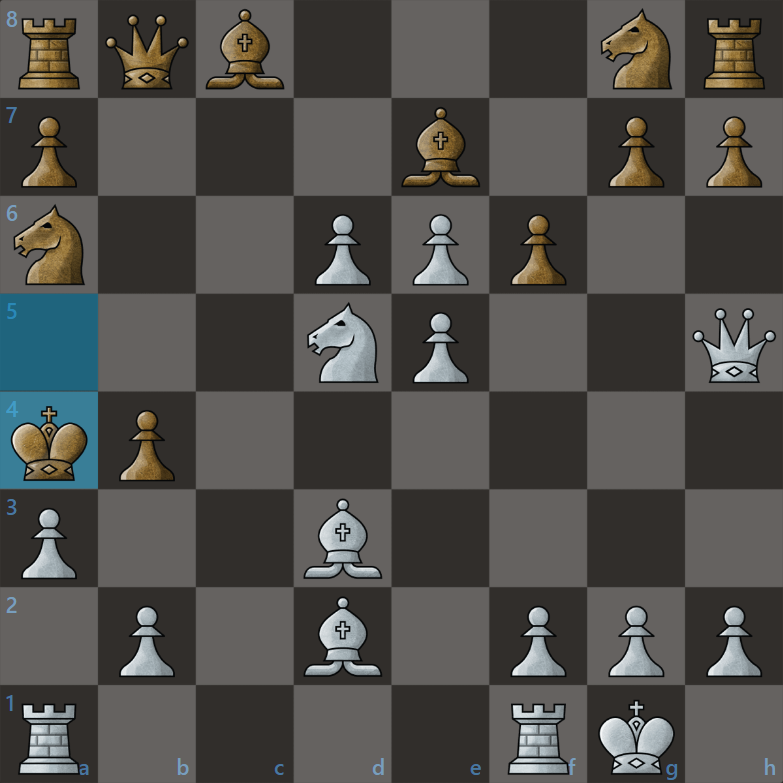B: (301, 497, 387, 582), (302, 593, 384, 681)
K: (595, 697, 677, 778)
N: (304, 300, 382, 387)
P: (117, 603, 177, 680), (20, 505, 80, 582), (509, 603, 569, 680), (608, 602, 668, 679), (704, 602, 764, 679), (409, 309, 469, 386), (411, 211, 471, 288), (312, 211, 372, 288)
Q: (689, 307, 779, 385)
R: (505, 698, 573, 778), (15, 700, 81, 777)
b: (203, 6, 287, 92), (399, 106, 482, 192)
k: (9, 403, 90, 485)
n: (11, 200, 91, 290), (598, 7, 677, 93)
p: (115, 405, 177, 484), (507, 209, 569, 288), (605, 112, 667, 191), (703, 113, 765, 192), (20, 114, 81, 193)
q: (101, 13, 192, 93)
r: (14, 13, 83, 95), (702, 14, 767, 95)
